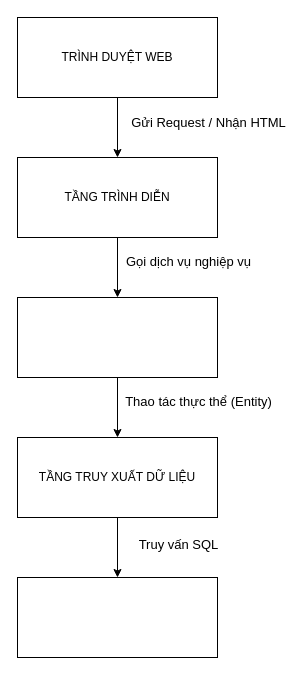
Image size: 303x675. Some labels were removed from this diagram. Here are the shapes that lost their labels. From the top down, the centre of each, then its label:
the point at 117,337: TẦNG NGHIỆP VỤ
the point at 117,617: TẦNG CƠ SỞ DỮ LIỆU
